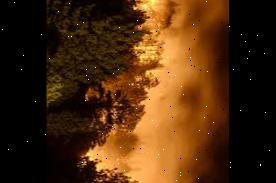fire: (81, 0, 180, 183)
